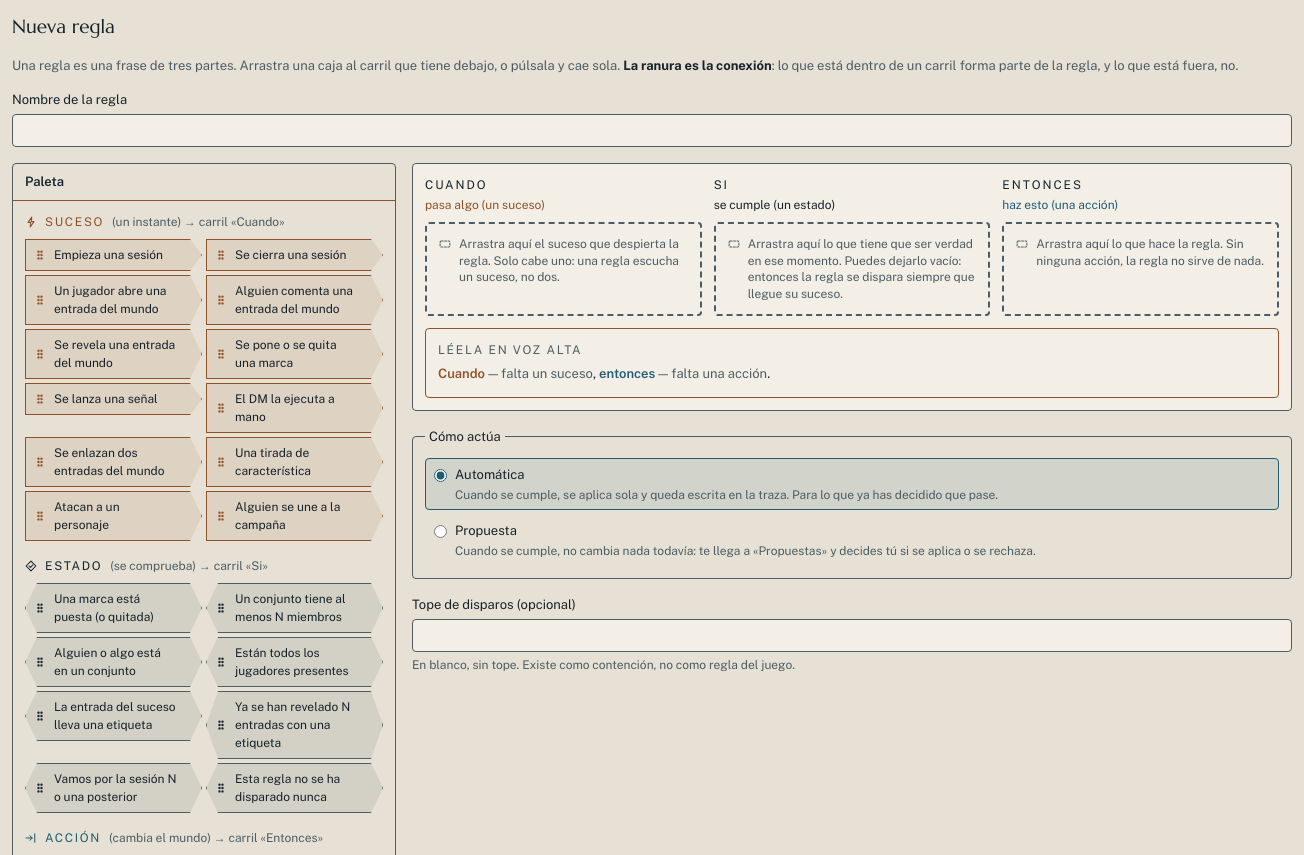
Test: el editor de reglas por carriles › colocar sin arrastrar se anuncia, porque nada se ve moverse
Click the button with aria-label "Empieza una sesión — poner en el carril Cuando" at (114, 255), box [25,239,202,271]
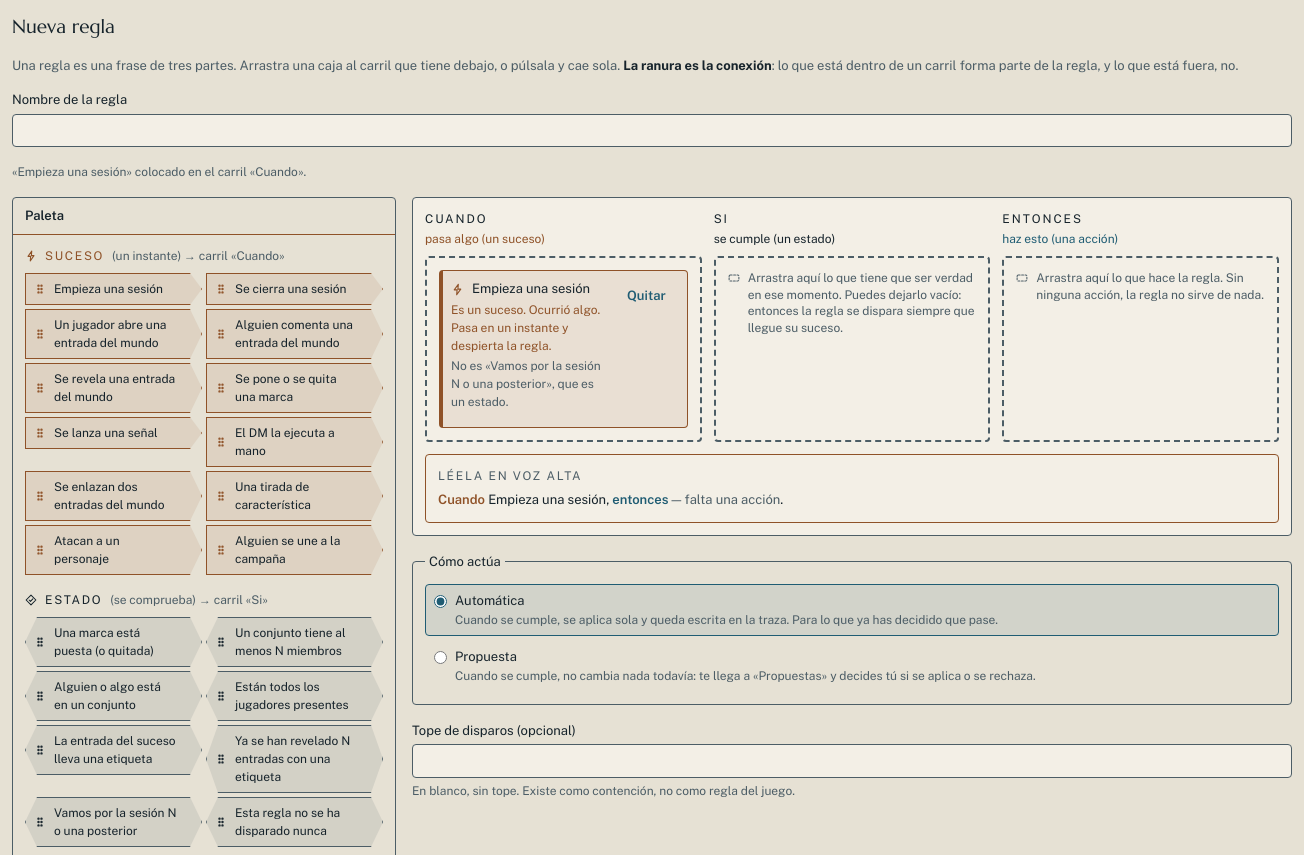
Check: the text "«Empieza una sesión» colocado en el carril «Cuando»." is shown, box [12,165,306,179]
# El carril Cuando admite uno solo: colocar otro sustituye, y lo dice.
Click the button with aria-label "Se cierra una sesión — poner en el carril Cuando" at (294, 289), box [206,273,383,305]
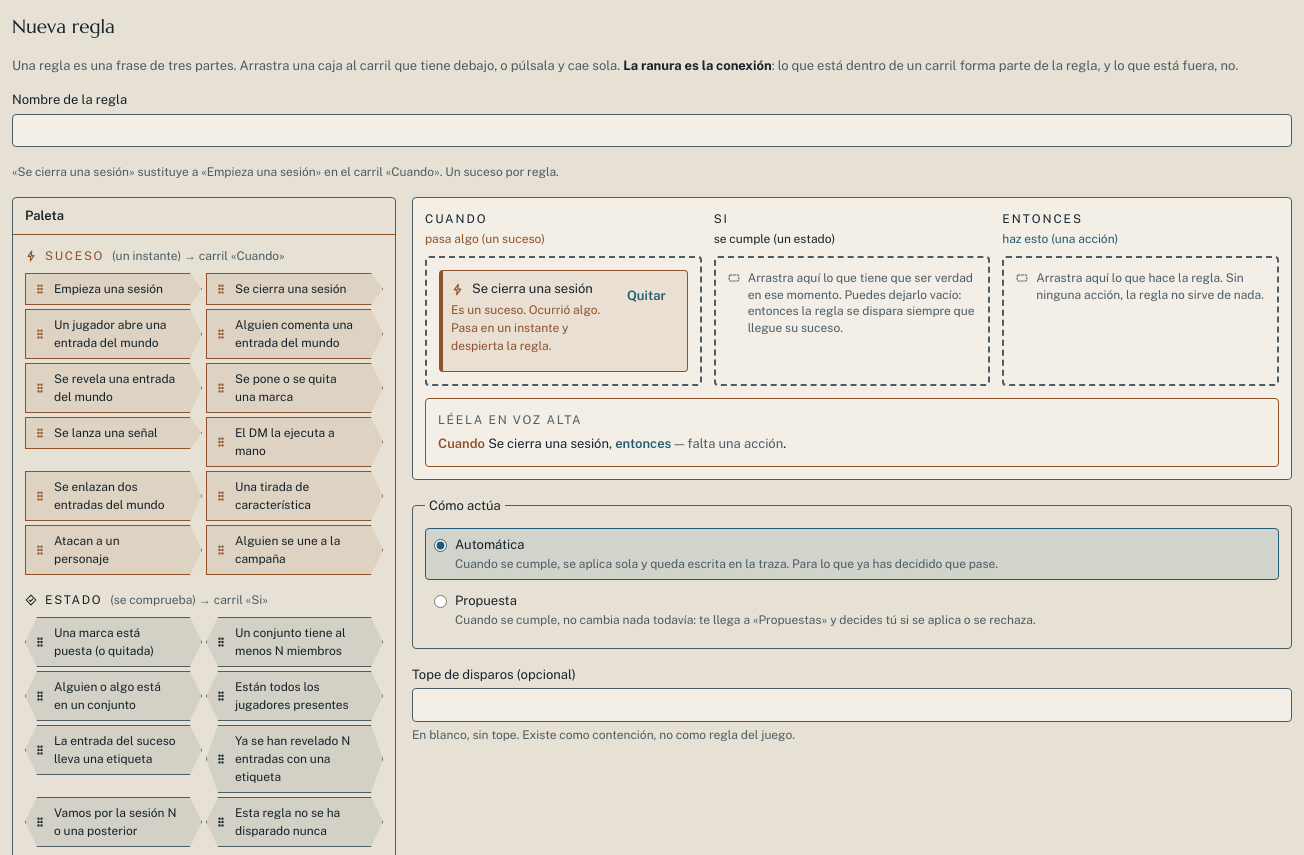
Check: the element named "Carril Cuando" does not show "Empieza una sesión", box [425,210,702,386]
Check: the text "«Se cierra una sesión» sustituye a «Empieza una sesión» en el carril «Cuando». Un suceso por regla." is shown, box [12,165,559,179]
